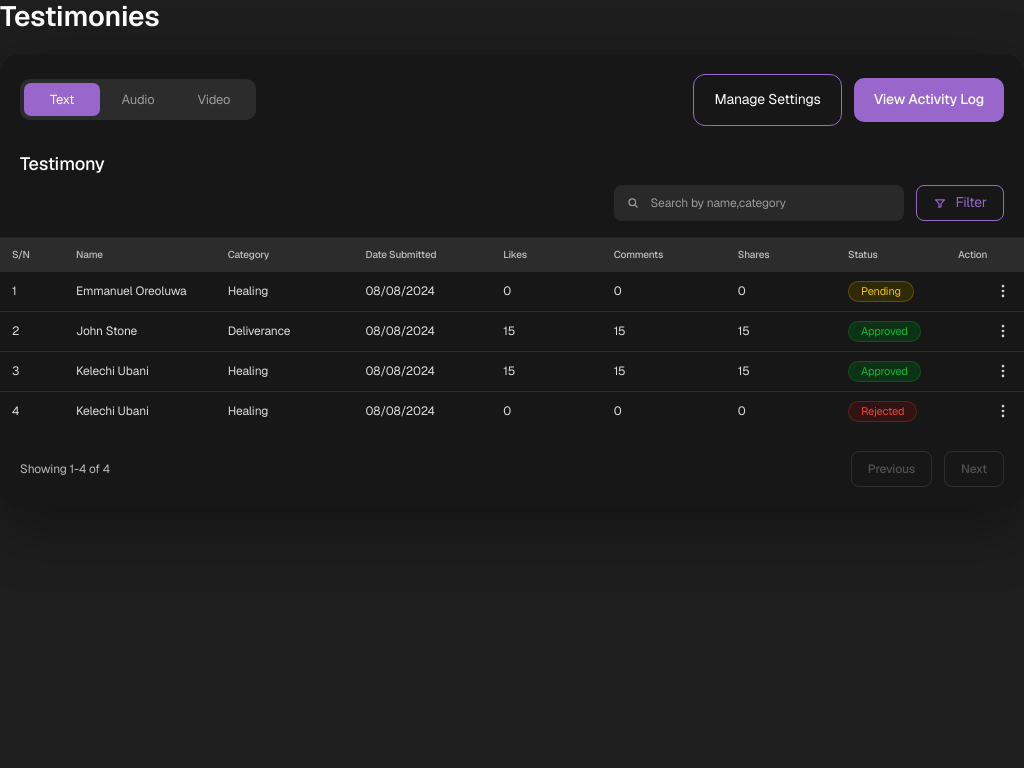
it: TestimoniesPage › opens and closes loaded testimony details on the client
Click the button named "Open actions for testimony 1". click: (1003, 291)
box: x1=994 y1=282 x2=1012 y2=300
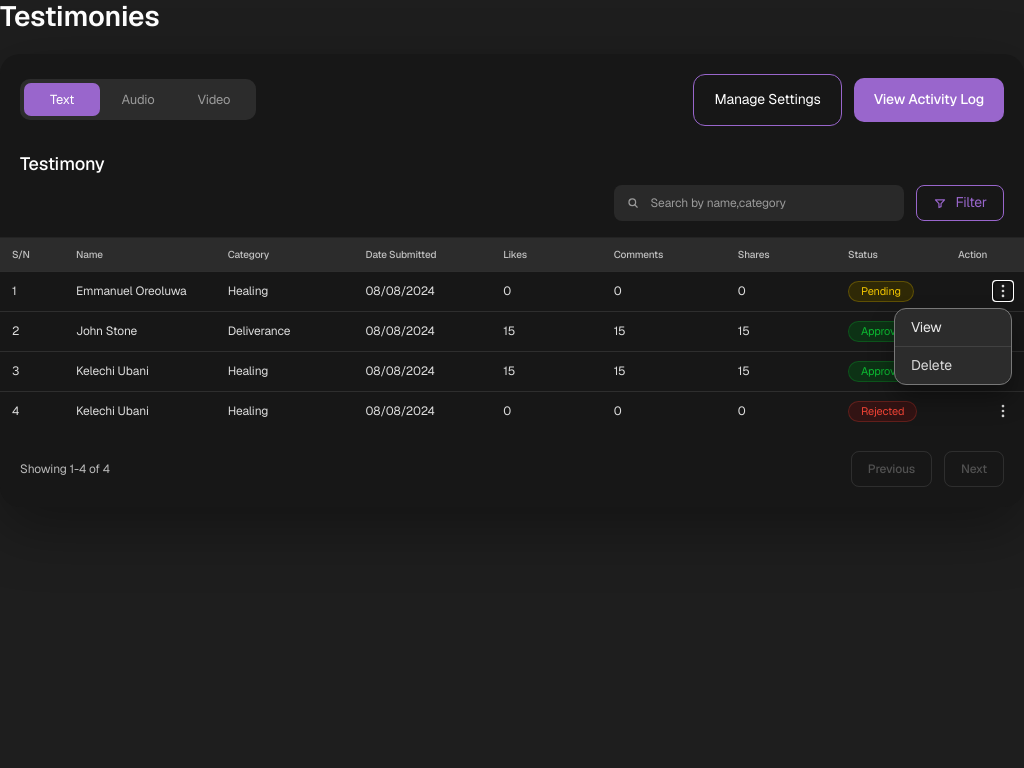
Click the button "View". click: (953, 328)
box: x1=895 y1=309 x2=1011 y2=347
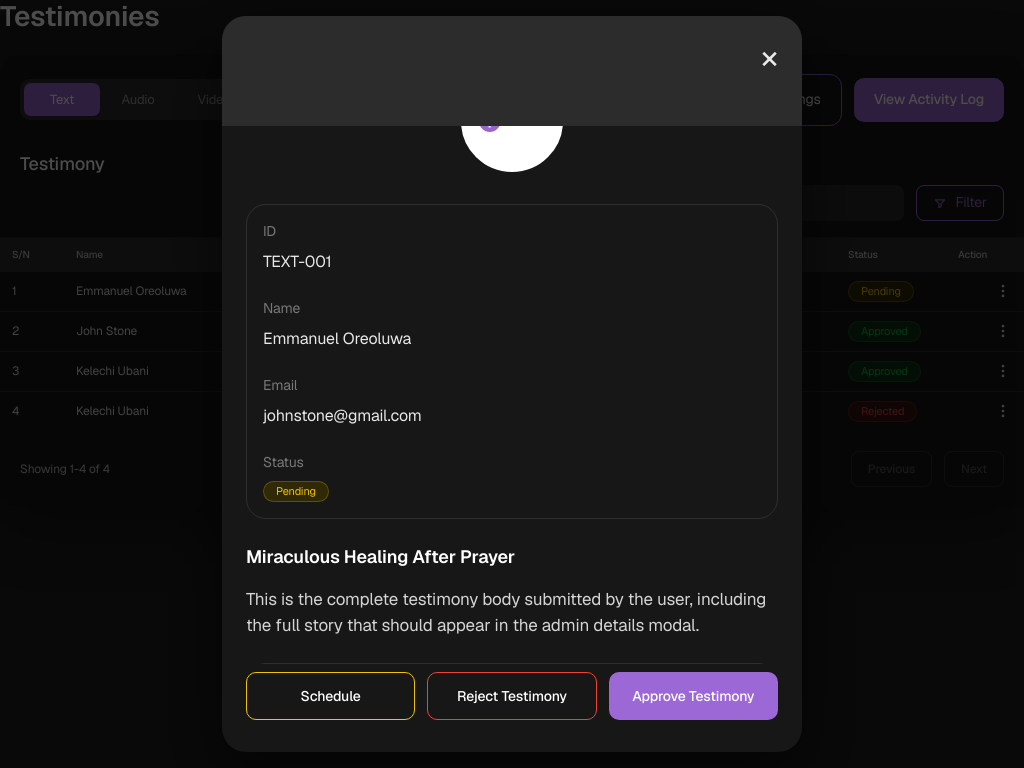
Now the text "This is the complete testimony body submitted by the user, including the full story that should appear in the admin deta" is shown, box x1=246 y1=588 x2=766 y2=636
Now the button "Approve Testimony" is shown, box x1=609 y1=672 x2=778 y2=720
Click the button named "Close testimony detail modal". click: (61, 384)
box: x1=0 y1=0 x2=1023 y2=767
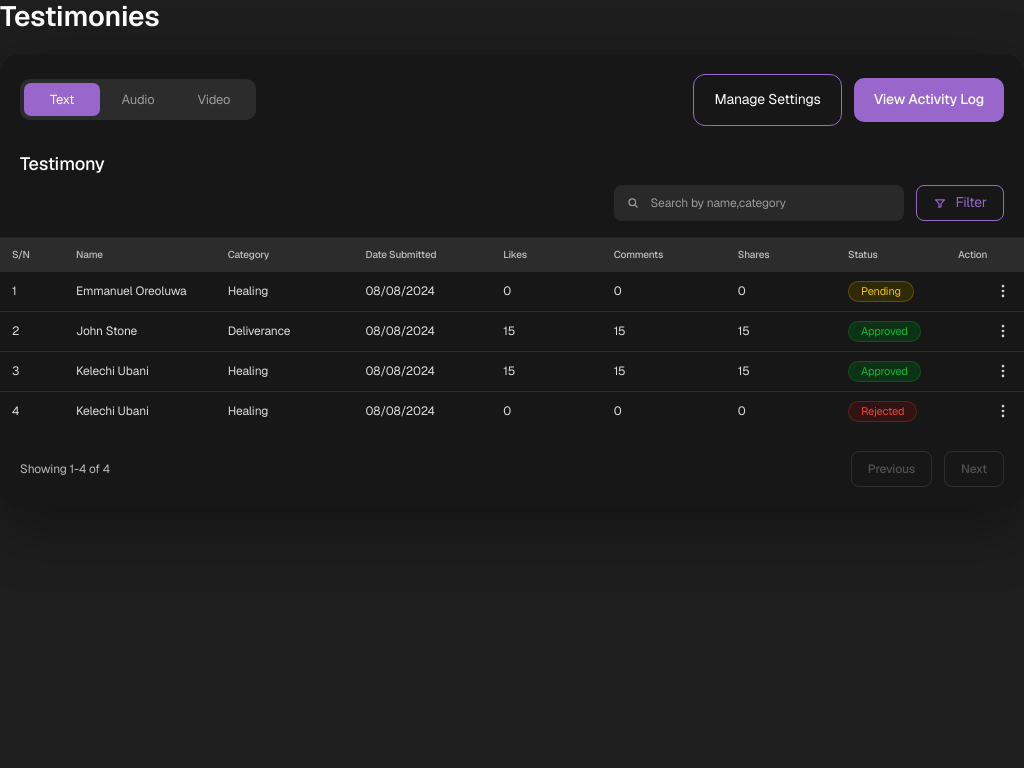
Now the button "Approve Testimony" is gone
